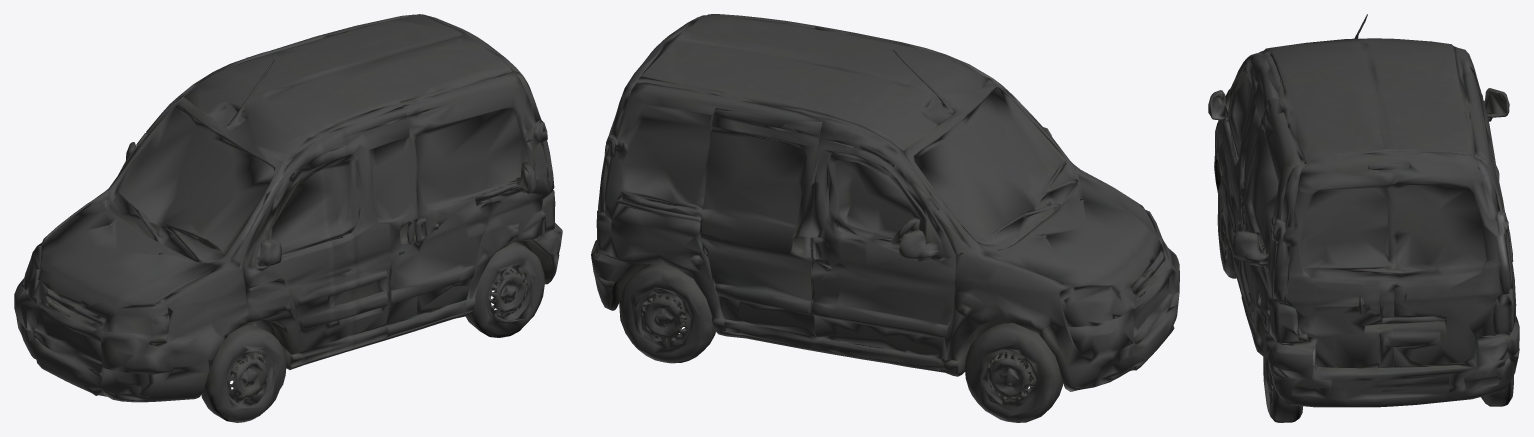
The model's file is prop.van_red.paris.glb.
3 renders of one model, left to right at view 1: azimuth 30°, elevation 25°; view 2: azimuth 150°, elevation 25°; view 3: azimuth 270°, elevation 25°, orthographic. The views are drawn at different scales.
Parts seen in each view (by area): view 1: tripo_node_542dcd54-050d-4870-9121-5ce756f4bd43; view 2: tripo_node_542dcd54-050d-4870-9121-5ce756f4bd43; view 3: tripo_node_542dcd54-050d-4870-9121-5ce756f4bd43.
Part boxes in pixels (x1,y1,x2,y2): tripo_node_542dcd54-050d-4870-9121-5ce756f4bd43: (14,14,562,422); tripo_node_542dcd54-050d-4870-9121-5ce756f4bd43: (591,14,1179,422); tripo_node_542dcd54-050d-4870-9121-5ce756f4bd43: (1208,14,1519,422).
Size of the model in its own units: 0.9787 by 0.557 by 0.5111.
Materials: 1 (1 with a texture image).
